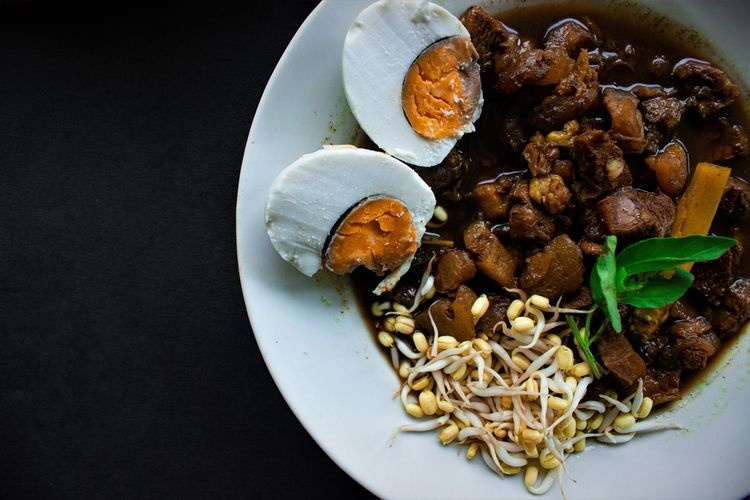rawon: (258, 2, 750, 447)
